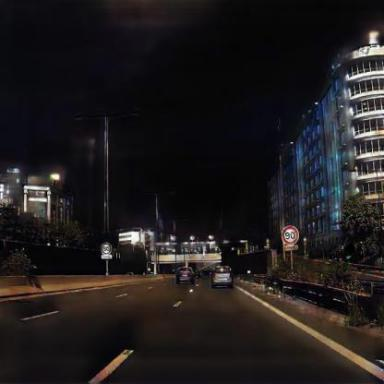Speed_limit_90: (282, 225, 299, 246)
